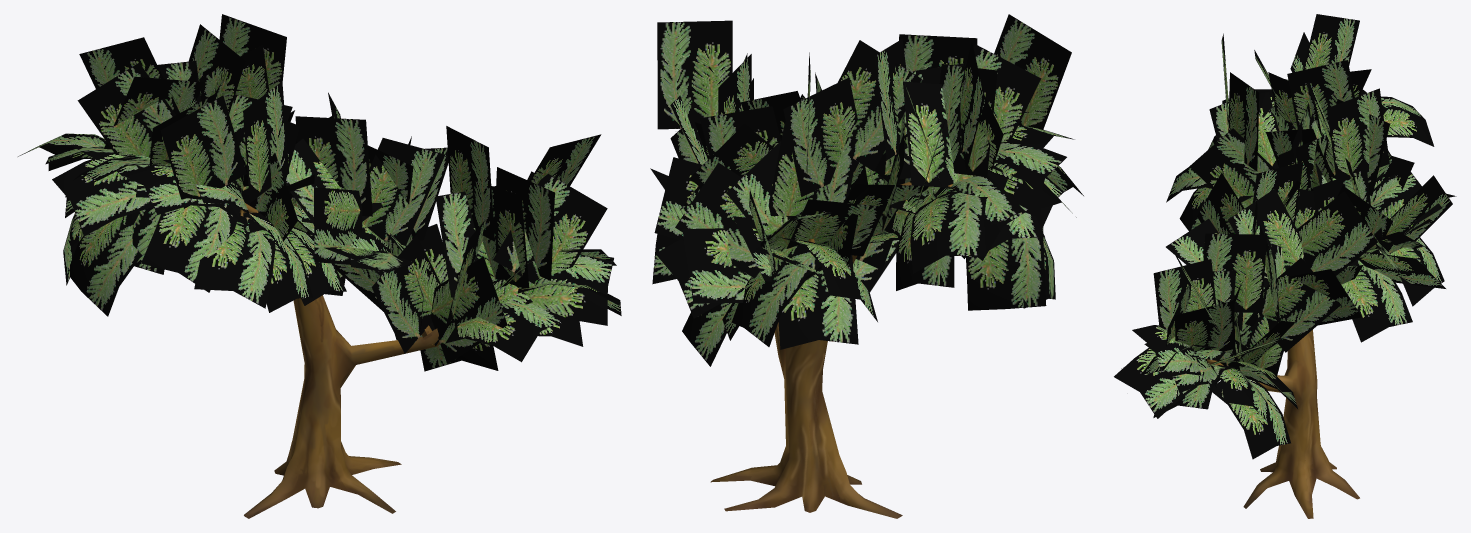
Rendered from Tree2.fbx.
3 renders of one model, left to right at view 1: azimuth 30°, elevation 25°; view 2: azimuth 150°, elevation 25°; view 3: azimuth 270°, elevation 25°, orthographic. The views are drawn at different scales.
Parts seen in each view (by area): view 1: Circle; view 2: Circle; view 3: Circle.
Part boxes in pixels (x1=…): Circle: x1=18, y1=14, x2=621, y2=518; Circle: x1=650, y1=14, x2=1083, y2=518; Circle: x1=1114, y1=14, x2=1456, y2=518.
Bounding box in the file's own units: 676 × 691 × 524.
Materials: 2 (2 with a texture image).
